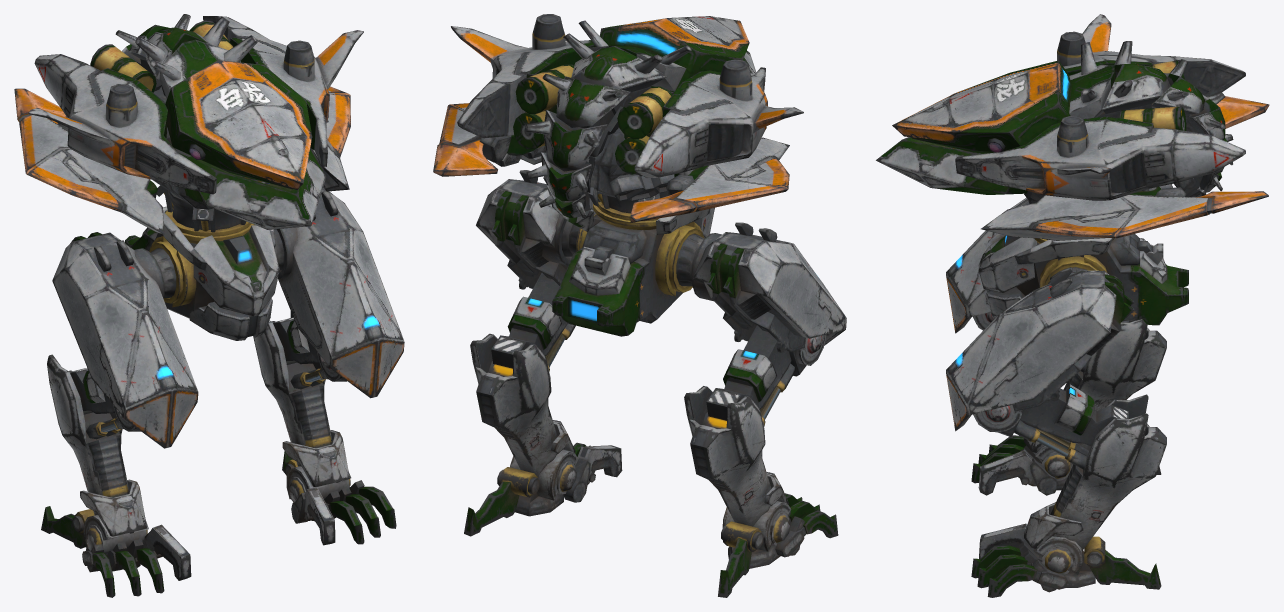
3 views of the same model, side by side, from view 1: azimuth 30°, elevation 25°; view 2: azimuth 150°, elevation 25°; view 3: azimuth 270°, elevation 25° (orthographic). The views are drawn at different scales.
Visible parts, largest first — view 1: ao_jun.tower, ao_jun.right thigh, ao_jun.left thigh, ao_jun.pp, ao_jun.tower.right wing, ao_jun.right lower leg, ao_jun.left lower leg, ao_jun.right foot, ao_jun.tower.ability.mouth, ao_jun.left foot, ao_jun.tower.left wing, ao_jun.tail1 (+3 smaller); view 2: ao_jun.tower, ao_jun.pp, ao_jun.right thigh, ao_jun.right lower leg, ao_jun.left lower leg, ao_jun.left thigh, ao_jun.left foot, ao_jun.tower.right wing, ao_jun.right foot, ao_jun.right upper leg, ao_jun.left upper leg, ao_jun.tower.left wing (+6 smaller); view 3: ao_jun.tower, ao_jun.left thigh, ao_jun.pp, ao_jun.left lower leg, ao_jun.tower.left wing, ao_jun.left foot, ao_jun.right lower leg, ao_jun.left upper leg, ao_jun.tower.ability.mouth, ao_jun.right foot, ao_jun.right thigh, ao_jun.tail1 (+3 smaller).
Boxes of the visible parts, x1,y1,x2,y2 form: ao_jun.tower: (28, 16, 363, 236); ao_jun.right thigh: (52, 232, 198, 448); ao_jun.left thigh: (276, 188, 404, 398); ao_jun.pp: (125, 206, 284, 340); ao_jun.tower.right wing: (14, 88, 164, 234); ao_jun.right lower leg: (47, 354, 148, 547); ao_jun.left lower leg: (253, 311, 349, 486); ao_jun.right foot: (41, 506, 191, 597); ao_jun.tower.ability.mouth: (179, 149, 326, 229); ao_jun.left foot: (282, 451, 396, 545); ao_jun.tower.left wing: (310, 86, 350, 191); ao_jun.tail1: (135, 16, 229, 79); ao_jun.tower: (451, 14, 803, 221); ao_jun.pp: (552, 198, 714, 336); ao_jun.right thigh: (692, 222, 846, 376); ao_jun.right lower leg: (684, 386, 791, 551); ao_jun.left lower leg: (470, 333, 575, 477); ao_jun.left thigh: (476, 170, 571, 289); ao_jun.left foot: (464, 442, 622, 536); ao_jun.tower.right wing: (630, 137, 789, 222); ao_jun.right foot: (718, 493, 838, 597); ao_jun.right upper leg: (706, 325, 794, 426); ao_jun.left upper leg: (491, 273, 575, 371); ao_jun.tower.left wing: (433, 103, 546, 176); ao_jun.tower: (892, 14, 1245, 239); ao_jun.left thigh: (946, 267, 1134, 436); ao_jun.pp: (978, 234, 1188, 325); ao_jun.left lower leg: (1024, 394, 1166, 550); ao_jun.tower.left wing: (981, 187, 1268, 240); ao_jun.left foot: (971, 523, 1161, 597); ao_jun.right lower leg: (1024, 319, 1166, 464); ao_jun.left upper leg: (1014, 384, 1128, 469); ao_jun.tower.ability.mouth: (876, 137, 1027, 194); ao_jun.right foot: (971, 435, 1161, 495); ao_jun.right thigh: (946, 197, 1029, 333); ao_jun.tail1: (1102, 41, 1170, 113).
Size of the model in its own units: 11.67 by 16.11 by 12.21.
1 material, 1 textured.
